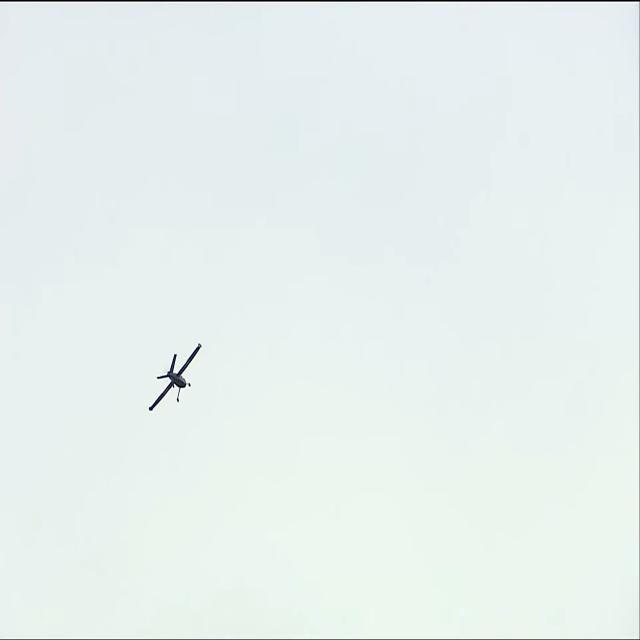iha: (148, 374, 202, 380)
